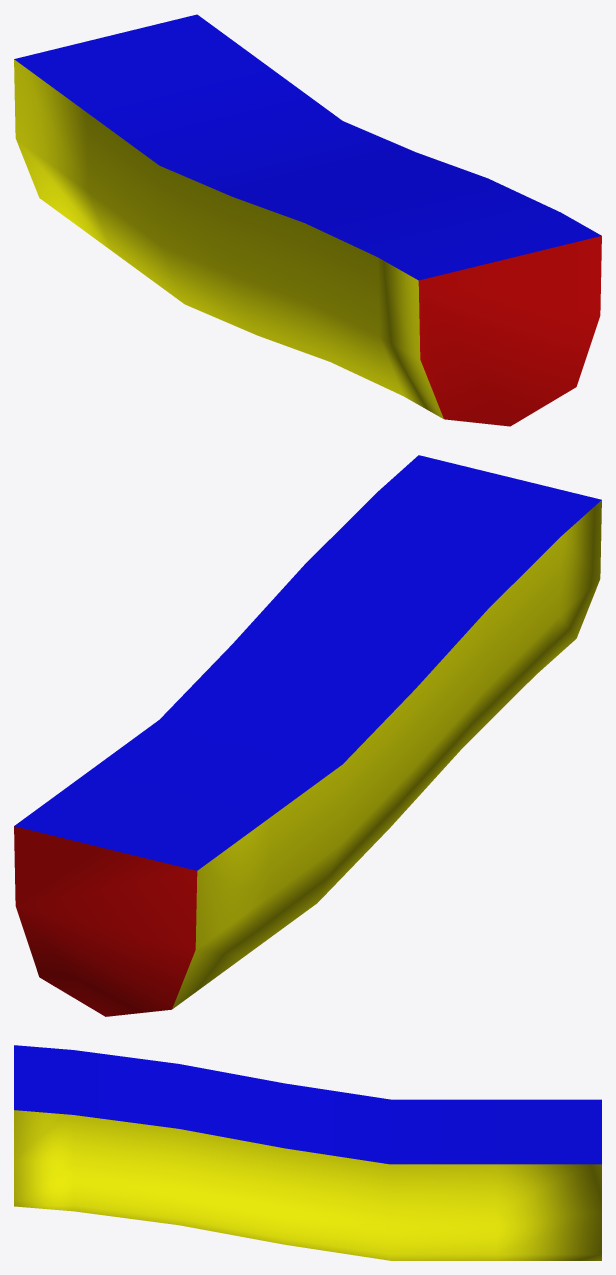
3 renders of one model, top to bottom at view 1: azimuth 30°, elevation 25°; view 2: azimuth 150°, elevation 25°; view 3: azimuth 270°, elevation 25°, orthographic. The views are drawn at different scales.
Parts seen in each view (by area): view 1: polySurface105; view 2: polySurface105; view 3: polySurface105.
Boxes of the visible parts, left/top/right/bottom form: polySurface105: left=14, top=14, right=601, bottom=426; polySurface105: left=14, top=455, right=601, bottom=1016; polySurface105: left=14, top=1045, right=601, bottom=1260.
Size of the model in its own units: 23.58 by 29.9 by 90.19.
